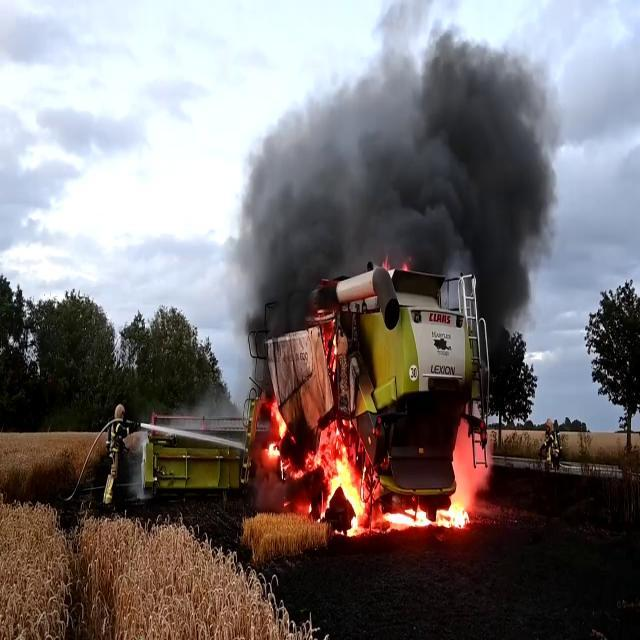Fire: (320, 426, 370, 534), (382, 488, 475, 534), (259, 394, 293, 466)
Smoke: (228, 16, 558, 322)
